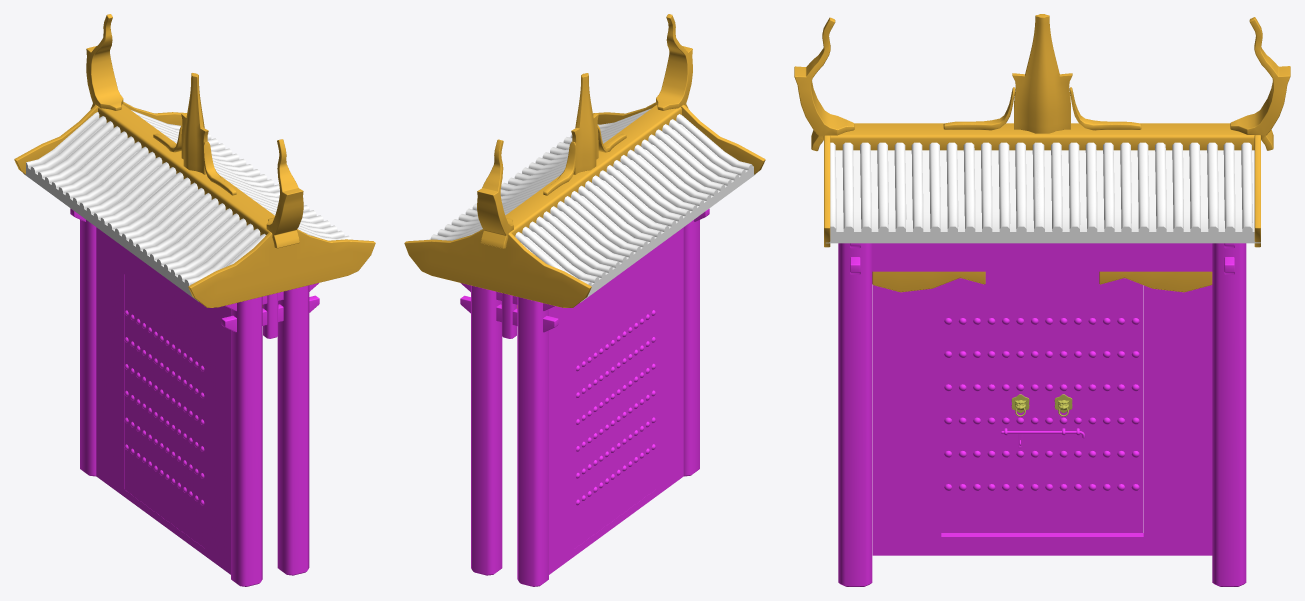
Rendered from GATE_ALL_GateTown_1k1_(T)_LP1.fbx.
3 renders of one model, left to right at view 1: azimuth 30°, elevation 25°; view 2: azimuth 150°, elevation 25°; view 3: azimuth 270°, elevation 25°, orthographic. The views are drawn at different scales.
Visible parts, largest first — view 1: LP_ROOF_GateTown5, pasted__polySurface6906, pasted__polySurface6914, pasted__polySurface6907, polySurface7476, polySurface7370, pasted__LP_EL1, pasted__polySurface6909, pasted__LP_EL5, LP_ROOF_GateTown4, pasted__LP_EL2, pasted__LP_EL8 (+7 smaller); view 2: LP_ROOF_GateTown5, pasted__polySurface6906, pasted__polySurface6909, pasted__polySurface6912, polySurface7370, polySurface7476, pasted__LP_EL9, pasted__polySurface6907, LP_ROOF_GateTown4, pasted__LP_EL5, pasted__LP_EL8, pasted__LP_EL2 (+7 smaller); view 3: pasted__polySurface6906, LP_ROOF_GateTown4, polySurface7370, polySurface7476, pasted__polySurface6914, pasted__polySurface6912, pasted__polySurface6913, pasted__LP_EL5, pasted__LP_EL3, pasted__LP_EL2, pasted__LP_EL8, polySurface7456 (+7 smaller).
Boxes of the visible parts, x1,y1,x2,y2 form: LP_ROOF_GateTown5: [23, 112, 265, 301]; pasted__polySurface6906: [96, 227, 230, 574]; pasted__polySurface6914: [277, 285, 309, 575]; pasted__polySurface6907: [231, 296, 262, 586]; polySurface7476: [165, 304, 205, 548]; polySurface7370: [124, 274, 164, 518]; pasted__LP_EL1: [188, 229, 375, 307]; pasted__polySurface6909: [80, 220, 96, 476]; pasted__LP_EL5: [98, 104, 274, 235]; LP_ROOF_GateTown4: [131, 110, 351, 240]; pasted__LP_EL2: [266, 139, 303, 248]; pasted__LP_EL8: [86, 14, 123, 110]; LP_ROOF_GateTown5: [515, 114, 755, 302]; pasted__polySurface6906: [549, 227, 683, 574]; pasted__polySurface6909: [517, 297, 548, 586]; pasted__polySurface6912: [471, 285, 502, 575]; polySurface7370: [574, 304, 615, 548]; polySurface7476: [615, 274, 655, 518]; pasted__LP_EL9: [404, 229, 591, 307]; pasted__polySurface6907: [683, 220, 699, 476]; LP_ROOF_GateTown4: [426, 108, 651, 240]; pasted__LP_EL5: [505, 105, 681, 236]; pasted__LP_EL8: [477, 139, 513, 248]; pasted__LP_EL2: [656, 14, 692, 110]; pasted__polySurface6906: [872, 271, 1212, 555]; LP_ROOF_GateTown4: [826, 142, 1260, 243]; polySurface7370: [1042, 280, 1143, 532]; polySurface7476: [941, 280, 1042, 532]; pasted__polySurface6914: [838, 243, 872, 586]; pasted__polySurface6912: [1212, 243, 1246, 586]; pasted__polySurface6913: [872, 243, 1212, 271]; pasted__LP_EL5: [830, 123, 1254, 150]; pasted__LP_EL3: [1012, 14, 1072, 133]; pasted__LP_EL2: [794, 17, 854, 151]; pasted__LP_EL8: [1230, 17, 1290, 150]; polySurface7456: [944, 318, 1038, 490].
Size of the model in its own units: 4.07 by 9.33 by 7.61.
